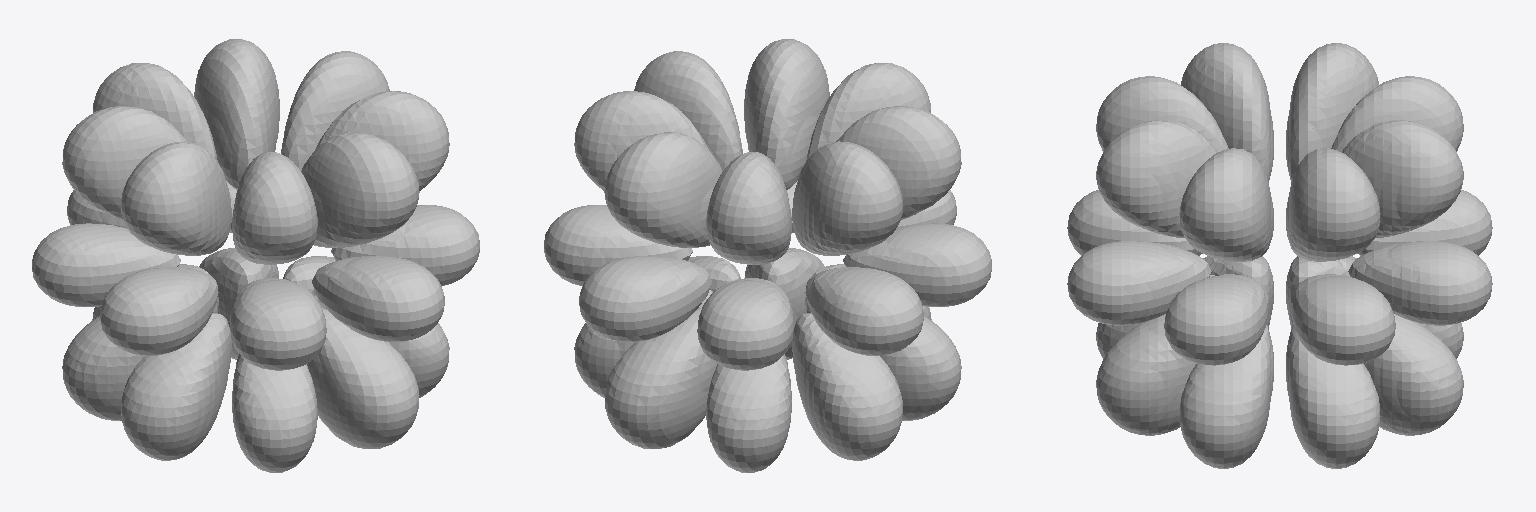
The model's file is orb_n=7_ l=6 _m=-4.obj.
The picture shows the model from 3 angles: view 1: azimuth 30°, elevation 25°; view 2: azimuth 150°, elevation 25°; view 3: azimuth 270°, elevation 25°; orthographic projection.
Parts seen in each view (by area): view 1: orb_n=7__l=6__m=-4; view 2: orb_n=7__l=6__m=-4; view 3: orb_n=7__l=6__m=-4.
Part boxes in pixels (left/top/right/bottom): orb_n=7__l=6__m=-4: left=32, top=39, right=479, bottom=472; orb_n=7__l=6__m=-4: left=544, top=39, right=991, bottom=472; orb_n=7__l=6__m=-4: left=1067, top=43, right=1492, bottom=468.
Bounding box in the file's own units: 151 × 122 × 151.